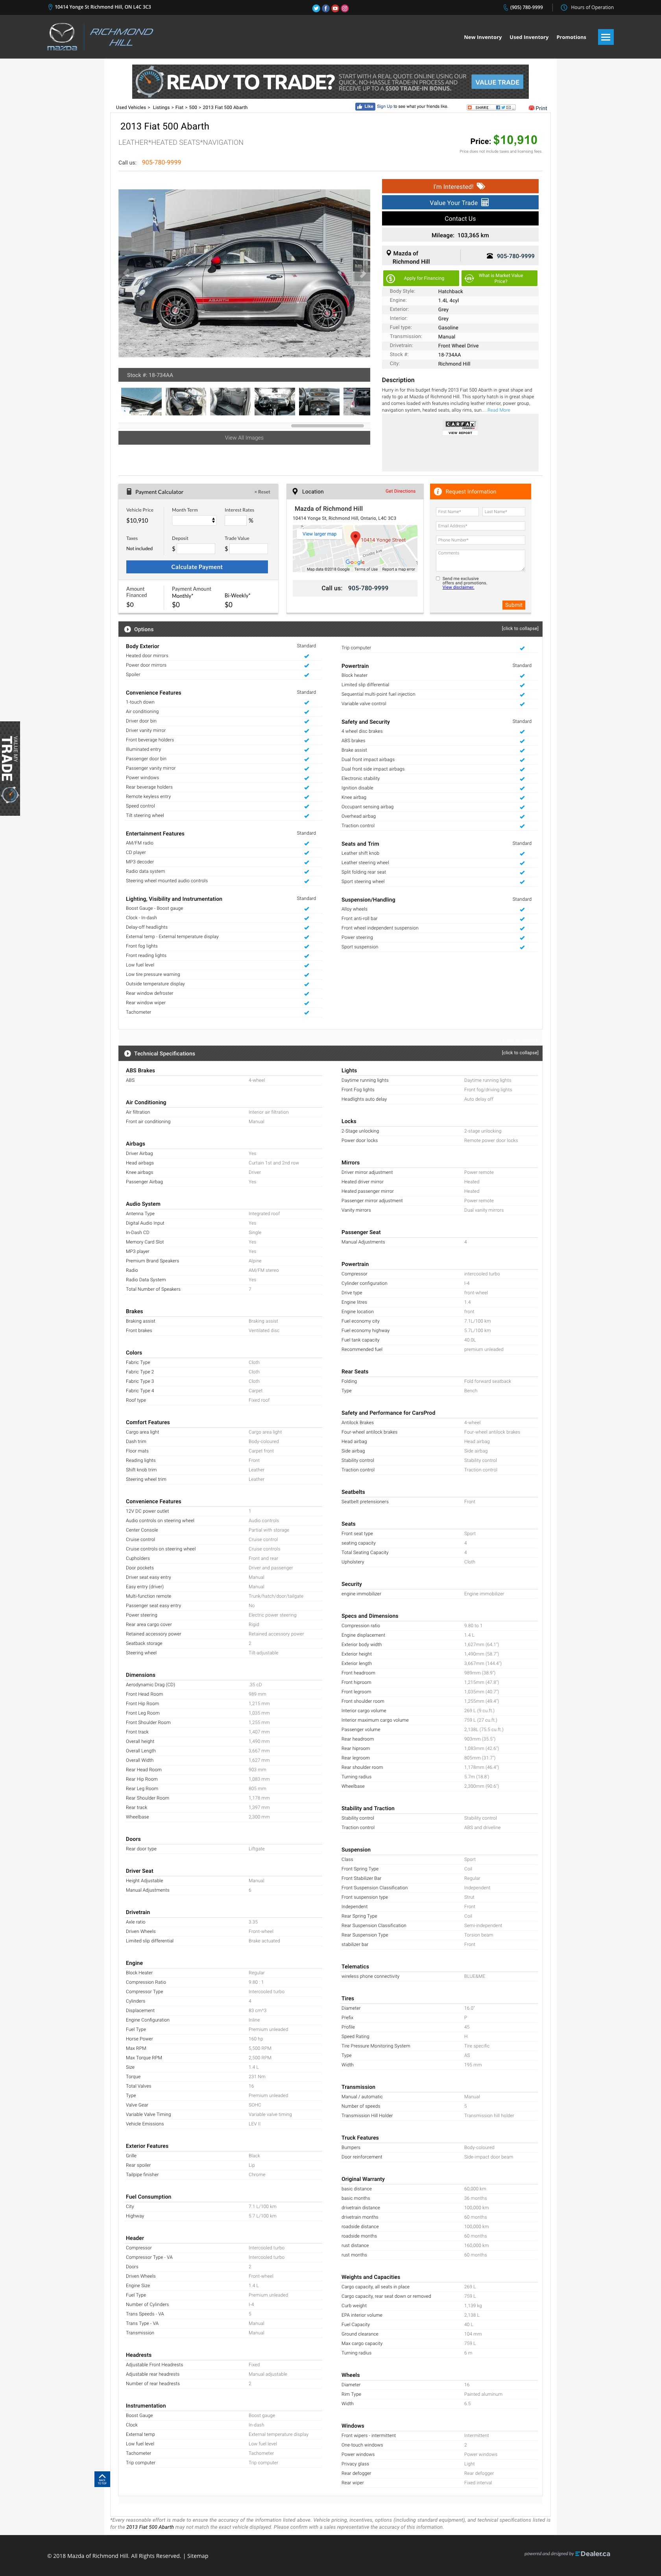car: (354, 260, 372, 283)
